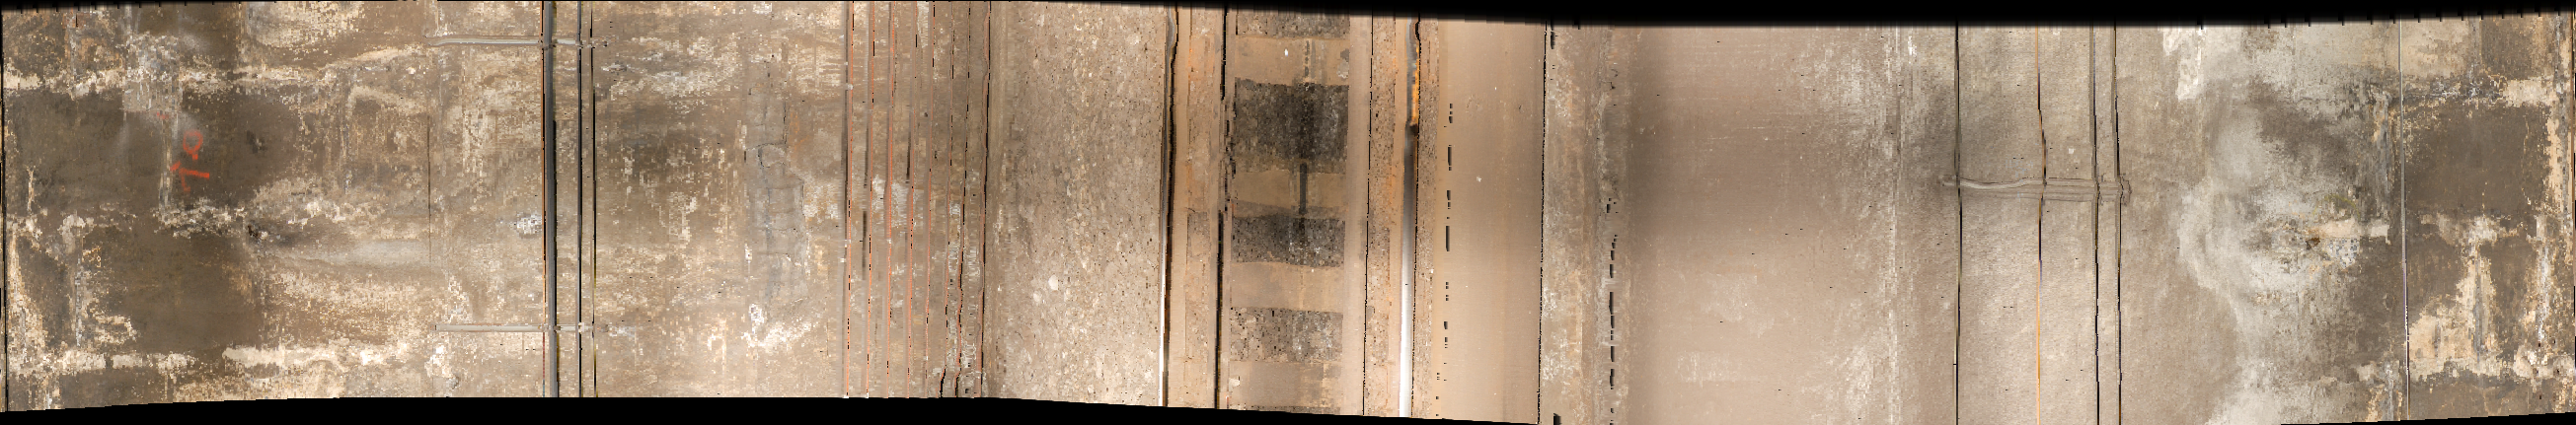pipes: (833, 3, 1012, 420), (537, 2, 603, 415), (2086, 31, 2137, 425), (1945, 36, 1976, 425)
tracks: (1161, 7, 1424, 425)
